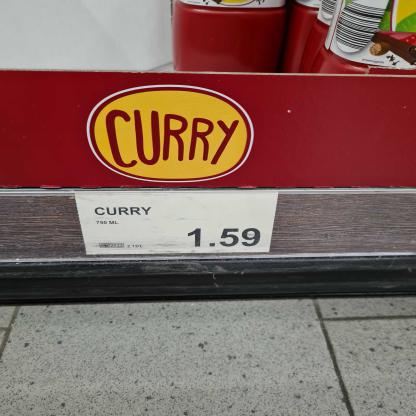prtg: (76, 194, 278, 255)
